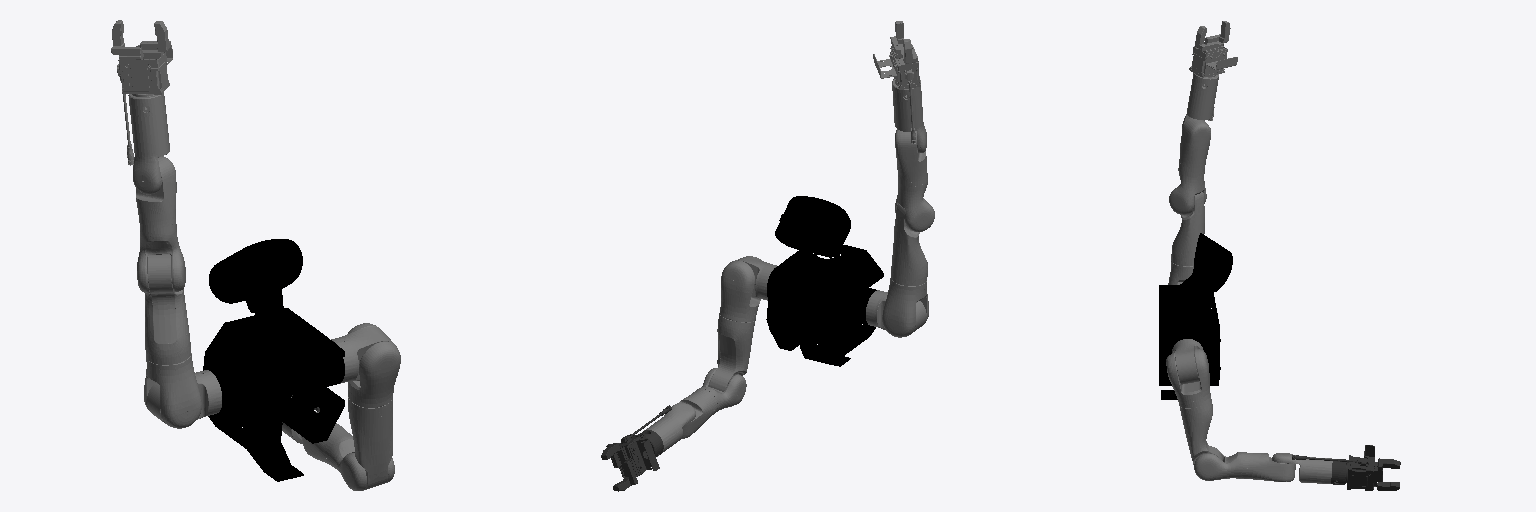
robot.urdf — ly_humanoid:
<?xml version="1.0" encoding="utf-8"?>
<!-- This URDF was automatically created by SolidWorks to URDF Exporter! Originally created by [author] ([email redacted]) 
     Commit Version: 1.6.0-4-g7f85cfe  Build Version: 1.6.7995.38578
     For more information, please see http://wiki.ros.org/sw_urdf_exporter -->
<robot name="ly_humanoid">
  <link name="base_link">
    <inertial>
      <origin xyz="-0.190263872221669 0.429818342520233 0.378845060056432" rpy="0 0 0" />
      <mass value="375.347673222326" />
      <inertia ixx="113.573397585741" ixy="-1.81530381586547" ixz="7.09391677059664" iyy="109.499644373326" iyz="-10.4427708957316" izz="24.7775299766248" />
    </inertial>
    <visual>
      <origin xyz="0 0 0" rpy="0 0 0" />
      <geometry>
        <mesh filename="package://ly_humanoid/meshes/base_link.STL" />
      </geometry>
      <material name="">
        <color rgba="0.752941176470588 0.752941176470588 0.752941176470588 1" />
      </material>
    </visual>
    <collision>
      <origin xyz="0 0 0" rpy="0 0 0" />
      <geometry>
        <mesh filename="package://ly_humanoid/meshes/base_link.STL" />
      </geometry>
    </collision>
  </link>
  <link name="link0">
    <inertial>
      <origin xyz="-0.190263872221669 0.429818342520233 0.378845060056432" rpy="0 0 0" />
      <mass value="375.347673222326" />
      <inertia ixx="113.573397585741" ixy="-1.81530381586547" ixz="7.09391677059664" iyy="109.499644373326" iyz="-10.4427708957316" izz="24.7775299766248" />
    </inertial>
    <visual>
      <origin xyz="0 0 0" rpy="0 0 0" />
      <geometry>
        <mesh filename="package://ly_humanoid/meshes/link0.STL" />
      </geometry>
      <material name="">
        <color rgba="0 0 0 1" />
      </material>
    </visual>
    <collision>
      <origin xyz="0 0 0" rpy="0 0 0" />
      <geometry>
        <mesh filename="package://ly_humanoid/meshes/link0.STL" />
      </geometry>
    </collision>
  </link>
  <joint name="joint0" type="prismatic">
    <origin xyz="5.7543E-05 0.04397 -1.00" rpy="0 0 0" />
    <parent link="base_link" />
    <child link="link0" />
    <axis xyz="0 0 1" />
    <limit lower="0.6" upper="2" effort="0" velocity="0" />
  </joint>
  <link name="right_Link1">
    <inertial>
      <origin xyz="-0.190263872221669 0.429818342520233 0.378845060056432" rpy="0 0 0" />
      <mass value="375.347673222326" />
      <inertia ixx="113.573397585741" ixy="-1.81530381586547" ixz="7.09391677059664" iyy="109.499644373326" iyz="-10.4427708957316" izz="24.7775299766248" />
    </inertial>
    <visual>
      <origin xyz="0 0 0" rpy="0 0 0" />
      <geometry>
        <mesh filename="package://ly_humanoid/meshes/right_Link1.STL" />
      </geometry>
      <material name="">
        <color rgba="0.501960784313725 0.501960784313725 0.501960784313725 1" />
      </material>
    </visual>
    <collision>
      <origin xyz="0 0 0" rpy="0 0 0" />
      <geometry>
        <mesh filename="package://ly_humanoid/meshes/right_Link1.STL" />
      </geometry>
    </collision>
  </link>
  <joint name="rightjoint1" type="revolute">
    <origin xyz="0.15994 0.0865 0.6697" rpy="0 1.5708 0" />
    <parent link="link0" />
    <child link="right_Link1" />
    <axis xyz="0 0 -1" />
    <limit lower="-3.14" upper="3.14" effort="0" velocity="0" />
  </joint>
  <link name="right_Link2">
    <inertial>
      <origin xyz="-0.190263872221669 0.429818342520233 0.378845060056432" rpy="0 0 0" />
      <mass value="375.347673222326" />
      <inertia ixx="113.573397585741" ixy="-1.81530381586547" ixz="7.09391677059664" iyy="109.499644373326" iyz="-10.4427708957316" izz="24.7775299766248" />
    </inertial>
    <visual>
      <origin xyz="0 0 0" rpy="0 0 0" />
      <geometry>
        <mesh filename="package://ly_humanoid/meshes/right_Link2.STL" />
      </geometry>
      <material name="">
        <color rgba="0.501960784313725 0.501960784313725 0.501960784313725 1" />
      </material>
    </visual>
    <collision>
      <origin xyz="0 0 0" rpy="0 0 0" />
      <geometry>
        <mesh filename="package://ly_humanoid/meshes/right_Link2.STL" />
      </geometry>
    </collision>
  </link>
  <joint name="rightjoint2" type="revolute">
    <origin xyz="-0.011481 0.056751 0.0995" rpy="0 -1.5708 -1.3712" />
    <parent link="right_Link1" />
    <child link="right_Link2" />
    <axis xyz="0 0 -1" />
    <limit lower="-3.14" upper="3.14" effort="0" velocity="0" />
  </joint>
  <link name="right_Link3">
    <inertial>
      <origin xyz="-0.190263872221669 0.429818342520233 0.378845060056432" rpy="0 0 0" />
      <mass value="375.347673222326" />
      <inertia ixx="113.573397585741" ixy="-1.81530381586547" ixz="7.09391677059664" iyy="109.499644373326" iyz="-10.4427708957316" izz="24.7775299766248" />
    </inertial>
    <visual>
      <origin xyz="0 0 0" rpy="0 0 0" />
      <geometry>
        <mesh filename="package://ly_humanoid/meshes/right_Link3.STL" />
      </geometry>
      <material name="">
        <color rgba="0.501960784313725 0.501960784313725 0.501960784313725 1" />
      </material>
    </visual>
    <collision>
      <origin xyz="0 0 0" rpy="0 0 0" />
      <geometry>
        <mesh filename="package://ly_humanoid/meshes/right_Link3.STL" />
      </geometry>
    </collision>
  </link>
  <joint name="rightjoint3" type="revolute">
    <origin xyz="0.011996 0.13907 -0.0579" rpy="1.3712 0 0" />
    <parent link="right_Link2" />
    <child link="right_Link3" />
    <axis xyz="0.083084 0.19761 -0.97675" />
    <limit lower="-3.14" upper="3.14" effort="0" velocity="0" />
  </joint>
  <link name="right_Link4">
    <inertial>
      <origin xyz="-0.190263872221669 0.429818342520233 0.378845060056432" rpy="0 0 0" />
      <mass value="375.347673222326" />
      <inertia ixx="113.573397585741" ixy="-1.81530381586547" ixz="7.09391677059664" iyy="109.499644373326" iyz="-10.4427708957316" izz="24.7775299766248" />
    </inertial>
    <visual>
      <origin xyz="0 0 0" rpy="0 0 0" />
      <geometry>
        <mesh filename="package://ly_humanoid/meshes/right_Link4.STL" />
      </geometry>
      <material name="">
        <color rgba="0.501960784313725 0.501960784313725 0.501960784313725 1" />
      </material>
    </visual>
    <collision>
      <origin xyz="0 0 0" rpy="0 0 0" />
      <geometry>
        <mesh filename="package://ly_humanoid/meshes/right_Link4.STL" />
      </geometry>
    </collision>
  </link>
  <joint name="rightjoint4" type="revolute">
    <origin xyz="-0.038388 0.037967 -0.18849" rpy="3.1281 -1.4887 3.1416" />
    <parent link="right_Link3" />
    <child link="right_Link4" />
    <axis xyz="0 0 -1" />
    <limit lower="-3.14" upper="3.14" effort="0" velocity="0" />
  </joint>
  <link name="right_Link5">
    <inertial>
      <origin xyz="-0.190263872221669 0.429818342520233 0.378845060056432" rpy="0 0 0" />
      <mass value="375.347673222326" />
      <inertia ixx="113.573397585741" ixy="-1.81530381586547" ixz="7.09391677059664" iyy="109.499644373326" iyz="-10.4427708957316" izz="24.7775299766248" />
    </inertial>
    <visual>
      <origin xyz="0 0 0" rpy="0 0 0" />
      <geometry>
        <mesh filename="package://ly_humanoid/meshes/right_Link5.STL" />
      </geometry>
      <material name="">
        <color rgba="0.501960784313725 0.501960784313725 0.501960784313725 1" />
      </material>
    </visual>
    <collision>
      <origin xyz="0 0 0" rpy="0 0 0" />
      <geometry>
        <mesh filename="package://ly_humanoid/meshes/right_Link5.STL" />
      </geometry>
    </collision>
  </link>
  <joint name="rightjoint5" type="revolute">
    <origin xyz="-0.0059377 0.10727 -0.054229" rpy="1.5708 -1.3312 -3.0862" />
    <parent link="right_Link4" />
    <child link="right_Link5" />
    <axis xyz="0 0 1" />
    <limit lower="-3.14" upper="3.14" effort="0" velocity="0" />
  </joint>
  <link name="right_Link6">
    <inertial>
      <origin xyz="-0.190263872221669 0.429818342520233 0.378845060056432" rpy="0 0 0" />
      <mass value="375.347673222326" />
      <inertia ixx="113.573397585741" ixy="-1.81530381586547" ixz="7.09391677059664" iyy="109.499644373326" iyz="-10.4427708957316" izz="24.7775299766248" />
    </inertial>
    <visual>
      <origin xyz="0 0 0" rpy="0 0 0" />
      <geometry>
        <mesh filename="package://ly_humanoid/meshes/right_Link6.STL" />
      </geometry>
      <material name="">
        <color rgba="0.501960784313725 0.501960784313725 0.501960784313725 1" />
      </material>
    </visual>
    <collision>
      <origin xyz="0 0 0" rpy="0 0 0" />
      <geometry>
        <mesh filename="package://ly_humanoid/meshes/right_Link6.STL" />
      </geometry>
    </collision>
  </link>
  <joint name="rightjoint6" type="revolute">
    <origin xyz="-0.004371 0.044756 0.127" rpy="1.6249 -0.018003 -2.8207" />
    <parent link="right_Link5" />
    <child link="right_Link6" />
    <axis xyz="-0.22166 0.056722 0.97347" />
    <limit lower="-3.14" upper="3.14" effort="0" velocity="0" />
  </joint>
  <link name="right_Link7">
    <inertial>
      <origin xyz="-0.190263872221669 0.429818342520233 0.378845060056432" rpy="0 0 0" />
      <mass value="375.347673222326" />
      <inertia ixx="113.573397585741" ixy="-1.81530381586547" ixz="7.09391677059664" iyy="109.499644373326" iyz="-10.4427708957316" izz="24.7775299766248" />
    </inertial>
    <visual>
      <origin xyz="0 0 0" rpy="0 0 0" />
      <geometry>
        <mesh filename="package://ly_humanoid/meshes/right_Link7.STL" />
      </geometry>
      <material name="">
        <color rgba="0.250980392156863 0.250980392156863 0.250980392156863 1" />
      </material>
    </visual>
    <collision>
      <origin xyz="0 0 0" rpy="0 0 0" />
      <geometry>
        <mesh filename="package://ly_humanoid/meshes/right_Link7.STL" />
      </geometry>
    </collision>
  </link>
  <joint name="rightjoint7" type="revolute">
    <origin xyz="0.018548 0.15024 -0.052517" rpy="1.5002 -0.8608 0" />
    <parent link="right_Link6" />
    <child link="right_Link7" />
    <axis xyz="0 0 -1" />
    <limit lower="-3.14" upper="3.14" effort="0" velocity="0" />
  </joint>
  <link name="left_Link1">
    <inertial>
      <origin xyz="-0.190263872221669 0.429818342520233 0.378845060056432" rpy="0 0 0" />
      <mass value="375.347673222326" />
      <inertia ixx="113.573397585741" ixy="-1.81530381586547" ixz="7.09391677059664" iyy="109.499644373326" iyz="-10.4427708957316" izz="24.7775299766248" />
    </inertial>
    <visual>
      <origin xyz="0 0 0" rpy="0 0 0" />
      <geometry>
        <mesh filename="package://ly_humanoid/meshes/left_Link1.STL" />
      </geometry>
      <material name="">
        <color rgba="0.501960784313725 0.501960784313725 0.501960784313725 1" />
      </material>
    </visual>
    <collision>
      <origin xyz="0 0 0" rpy="0 0 0" />
      <geometry>
        <mesh filename="package://ly_humanoid/meshes/left_Link1.STL" />
      </geometry>
    </collision>
  </link>
  <joint name="leftjoint1" type="revolute">
    <origin xyz="-0.18906 0.0865 0.6697" rpy="0 -1.5708 0" />
    <parent link="link0" />
    <child link="left_Link1" />
    <axis xyz="0 0 -1" />
    <limit lower="-3.14" upper="3.14" effort="0" velocity="0" />
  </joint>
  <link name="left_Link2">
    <inertial>
      <origin xyz="-0.190263872221669 0.429818342520233 0.378845060056432" rpy="0 0 0" />
      <mass value="375.347673222326" />
      <inertia ixx="113.573397585741" ixy="-1.81530381586547" ixz="7.09391677059664" iyy="109.499644373326" iyz="-10.4427708957316" izz="24.7775299766248" />
    </inertial>
    <visual>
      <origin xyz="0 0 0" rpy="0 0 0" />
      <geometry>
        <mesh filename="package://ly_humanoid/meshes/left_Link2.STL" />
      </geometry>
      <material name="">
        <color rgba="0.501960784313725 0.501960784313725 0.501960784313725 1" />
      </material>
    </visual>
    <collision>
      <origin xyz="0 0 0" rpy="0 0 0" />
      <geometry>
        <mesh filename="package://ly_humanoid/meshes/left_Link2.STL" />
      </geometry>
    </collision>
  </link>
  <joint name="leftjoint2" type="revolute">
    <origin xyz="0 -0.057901 0.0705" rpy="1.5708 1.4791 0" />
    <parent link="left_Link1" />
    <child link="left_Link2" />
    <axis xyz="0 0 -1" />
    <limit lower="-3.14" upper="3.14" effort="0" velocity="0" />
  </joint>
  <link name="left_Link3">
    <inertial>
      <origin xyz="-0.190263872221669 0.429818342520233 0.378845060056432" rpy="0 0 0" />
      <mass value="375.347673222326" />
      <inertia ixx="113.573397585741" ixy="-1.81530381586547" ixz="7.09391677059664" iyy="109.499644373326" iyz="-10.4427708957316" izz="24.7775299766248" />
    </inertial>
    <visual>
      <origin xyz="0 0 0" rpy="0 0 0" />
      <geometry>
        <mesh filename="package://ly_humanoid/meshes/left_Link3.STL" />
      </geometry>
      <material name="">
        <color rgba="0.501960784313725 0.501960784313725 0.501960784313725 1" />
      </material>
    </visual>
    <collision>
      <origin xyz="0 0 0" rpy="0 0 0" />
      <geometry>
        <mesh filename="package://ly_humanoid/meshes/left_Link3.STL" />
      </geometry>
    </collision>
  </link>
  <joint name="leftjoint3" type="revolute">
    <origin xyz="0.00040028 0.1135 -0.0579" rpy="-1.5708 0 0" />
    <parent link="left_Link2" />
    <child link="left_Link3" />
    <axis xyz="0 0 1" />
    <limit lower="-3.14" upper="3.14" effort="0" velocity="0" />
  </joint>
  <link name="left_Link4">
    <inertial>
      <origin xyz="-0.190263872221669 0.429818342520233 0.378845060056432" rpy="0 0 0" />
      <mass value="375.347673222326" />
      <inertia ixx="113.573397585741" ixy="-1.81530381586547" ixz="7.09391677059664" iyy="109.499644373326" iyz="-10.4427708957316" izz="24.7775299766248" />
    </inertial>
    <visual>
      <origin xyz="0 0 0" rpy="0 0 0" />
      <geometry>
        <mesh filename="package://ly_humanoid/meshes/left_Link4.STL" />
      </geometry>
      <material name="">
        <color rgba="0.501960784313725 0.501960784313725 0.501960784313725 1" />
      </material>
    </visual>
    <collision>
      <origin xyz="0 0 0" rpy="0 0 0" />
      <geometry>
        <mesh filename="package://ly_humanoid/meshes/left_Link4.STL" />
      </geometry>
    </collision>
  </link>
  <joint name="lefthjoint4" type="revolute">
    <origin xyz="-0.044955 0.030331 0.2145" rpy="1.5708 -1.5708 -2.1643" />
    <parent link="left_Link3" />
    <child link="left_Link4" />
    <axis xyz="0 0 -1" />
    <limit lower="-3.14" upper="3.14" effort="0" velocity="0" />
  </joint>
  <link name="left_Link5">
    <inertial>
      <origin xyz="-0.190263872221669 0.429818342520233 0.378845060056432" rpy="0 0 0" />
      <mass value="375.347673222326" />
      <inertia ixx="113.573397585741" ixy="-1.81530381586547" ixz="7.09391677059664" iyy="109.499644373326" iyz="-10.4427708957316" izz="24.7775299766248" />
    </inertial>
    <visual>
      <origin xyz="0 0 0" rpy="0 0 0" />
      <geometry>
        <mesh filename="package://ly_humanoid/meshes/left_Link5.STL" />
      </geometry>
      <material name="">
        <color rgba="0.501960784313725 0.501960784313725 0.501960784313725 1" />
      </material>
    </visual>
    <collision>
      <origin xyz="0 0 0" rpy="0 0 0" />
      <geometry>
        <mesh filename="package://ly_humanoid/meshes/left_Link5.STL" />
      </geometry>
    </collision>
  </link>
  <joint name="leftjoint5" type="revolute">
    <origin xyz="0.087044 0.012485 -0.054231" rpy="1.7056 0.97107 1.7337" />
    <parent link="left_Link4" />
    <child link="left_Link5" />
    <axis xyz="0.011536 -0.1177 -0.99298" />
    <limit lower="-3.14" upper="3.14" effort="0" velocity="0" />
  </joint>
  <link name="left_Link6">
    <inertial>
      <origin xyz="-0.190263872221669 0.429818342520233 0.378845060056432" rpy="0 0 0" />
      <mass value="375.347673222326" />
      <inertia ixx="113.573397585741" ixy="-1.81530381586547" ixz="7.09391677059664" iyy="109.499644373326" iyz="-10.4427708957316" izz="24.7775299766248" />
    </inertial>
    <visual>
      <origin xyz="0 0 0" rpy="0 0 0" />
      <geometry>
        <mesh filename="package://ly_humanoid/meshes/left_Link6.STL" />
      </geometry>
      <material name="">
        <color rgba="0.501960784313725 0.501960784313725 0.501960784313725 1" />
      </material>
    </visual>
    <collision>
      <origin xyz="0 0 0" rpy="0 0 0" />
      <geometry>
        <mesh filename="package://ly_humanoid/meshes/left_Link6.STL" />
      </geometry>
    </collision>
  </link>
  <joint name="leftjoint6" type="revolute">
    <origin xyz="-0.042573 -0.0014327 0.14721" rpy="2.7135 1.5283 3.1416" />
    <parent link="left_Link5" />
    <child link="left_Link6" />
    <axis xyz="0 0 -1" />
    <limit lower="-3.14" upper="3.14" effort="0" velocity="0" />
  </joint>
  <link name="left_Link7">
    <inertial>
      <origin xyz="-0.190263872221669 0.429818342520233 0.378845060056432" rpy="0 0 0" />
      <mass value="375.347673222326" />
      <inertia ixx="113.573397585741" ixy="-1.81530381586547" ixz="7.09391677059664" iyy="109.499644373326" iyz="-10.4427708957316" izz="24.7775299766248" />
    </inertial>
    <visual>
      <origin xyz="0 0 0" rpy="0 0 0" />
      <geometry>
        <mesh filename="package://ly_humanoid/meshes/left_Link7.STL" />
      </geometry>
      <material name="">
        <color rgba="0.501960784313725 0.501960784313725 0.501960784313725 1" />
      </material>
    </visual>
    <collision>
      <origin xyz="0 0 0" rpy="0 0 0" />
      <geometry>
        <mesh filename="package://ly_humanoid/meshes/left_Link7.STL" />
      </geometry>
    </collision>
  </link>
  <joint name="leftjoint7" type="revolute">
    <origin xyz="-0.15109 0.025761 0.046713" rpy="1.6636 -1.1407 -1.6729" />
    <parent link="left_Link6" />
    <child link="left_Link7" />
    <axis xyz="-0.027837 0.15291 0.98785" />
    <limit lower="-3.14" upper="3.14" effort="0" velocity="0" />
  </joint>
</robot>

--- Facts derived from the render (not from the file) ---
3 views of the same robot in one strip: view 1: azimuth 30°, elevation 25°; view 2: azimuth 150°, elevation 25°; view 3: azimuth 270°, elevation 25° (orthographic).
Robot: ly_humanoid — 16 links, 15 joints (14 revolute, 1 prismatic); root link base_link; default pose: all joints at 0 but 1 set to mid-range because 0 is outside their limits (joint0 = 1.3).
Visible links, largest first — view 1: link0, left_Link7, left_Link3, right_Link3, left_Link2, right_Link2, left_Link6, left_Link5, left_Link4, right_Link4, right_Link1, left_Link1 (+1 smaller); view 2: link0, right_Link7, left_Link7, right_Link3, right_Link2, left_Link3, left_Link2, left_Link5, left_Link4, right_Link6, left_Link6, right_Link5 (+3 smaller); view 3: link0, right_Link7, left_Link7, right_Link2, left_Link3, left_Link5, right_Link3, right_Link5, right_Link4, left_Link4, right_Link6, right_Link1 (+1 smaller).
Boxes of the visible links, box(x1,y1,x2,y2) form: link0: box(203, 239, 344, 481); left_Link7: box(111, 20, 172, 165); left_Link3: box(145, 254, 190, 364); right_Link3: box(348, 397, 392, 490); left_Link2: box(144, 353, 201, 428); right_Link2: box(348, 323, 400, 408); left_Link6: box(130, 110, 169, 194); left_Link5: box(136, 156, 176, 233); left_Link4: box(137, 228, 185, 292); right_Link4: box(329, 436, 394, 490); right_Link1: box(331, 327, 392, 383); left_Link1: box(147, 370, 221, 422); link0: box(766, 196, 883, 366); right_Link7: box(601, 405, 671, 491); left_Link7: box(873, 21, 921, 143); right_Link3: box(709, 314, 755, 391); right_Link2: box(719, 256, 760, 322); left_Link3: box(891, 198, 928, 285); left_Link2: box(882, 278, 928, 337); left_Link5: box(895, 129, 927, 186); left_Link4: box(895, 180, 934, 231); right_Link6: box(644, 403, 695, 453); left_Link6: box(893, 95, 926, 152); right_Link5: box(679, 389, 717, 438); link0: box(1159, 233, 1232, 399); right_Link7: box(1292, 445, 1400, 490); left_Link7: box(1189, 21, 1237, 120); right_Link2: box(1166, 349, 1210, 408); left_Link3: box(1171, 192, 1204, 265); left_Link5: box(1179, 118, 1210, 172); right_Link3: box(1180, 399, 1222, 464); right_Link5: box(1242, 452, 1295, 481); right_Link4: box(1194, 446, 1243, 480); left_Link4: box(1169, 168, 1206, 214); right_Link6: box(1272, 453, 1332, 483); right_Link1: box(1172, 339, 1203, 384).
Size in the robot's own frame: 0.7162 by 0.7545 by 1.34 metres.
Meshes: 16 distinct files referenced, 15 mesh visuals loaded (15 binary STL); not drawn: 1 (reference not matched to a file when rendering).
